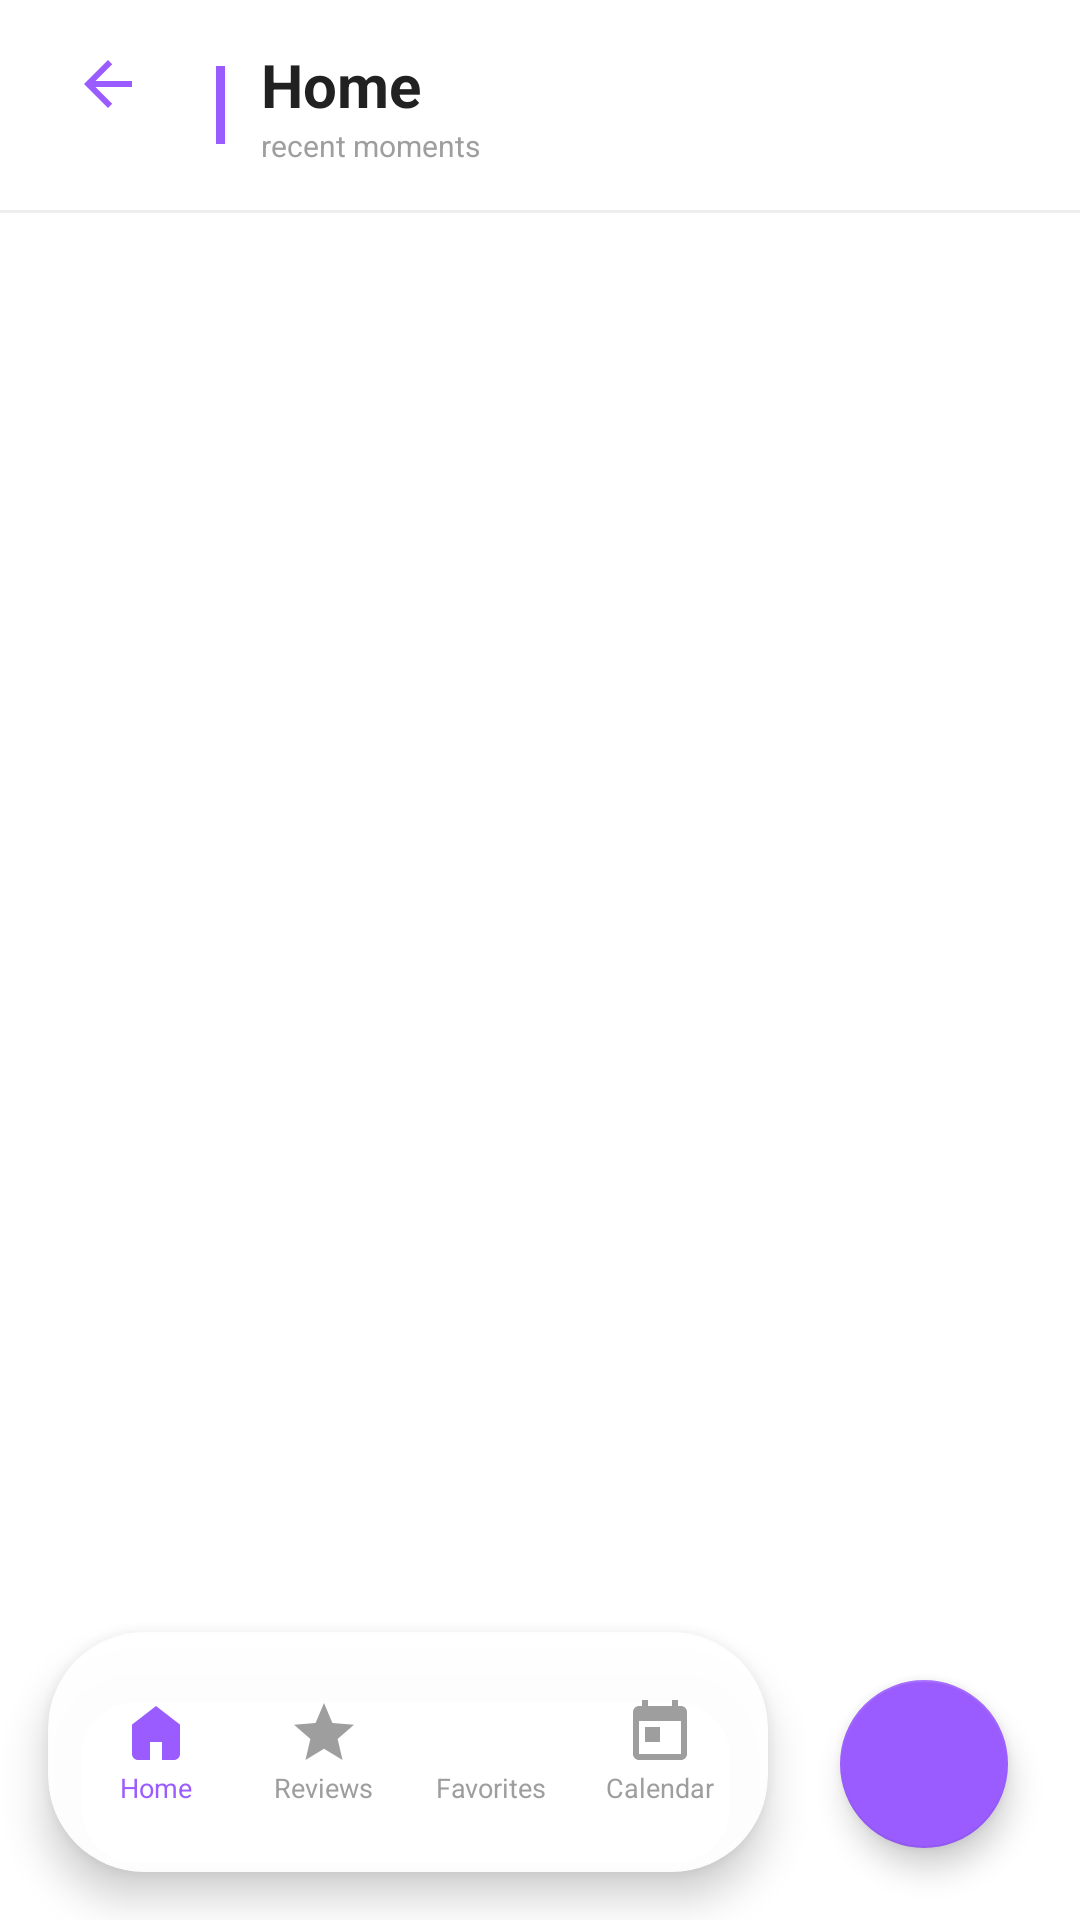

Icon click points for this 1080x1920 phone screenshot, format [x,y]:
star: [324,1732]
